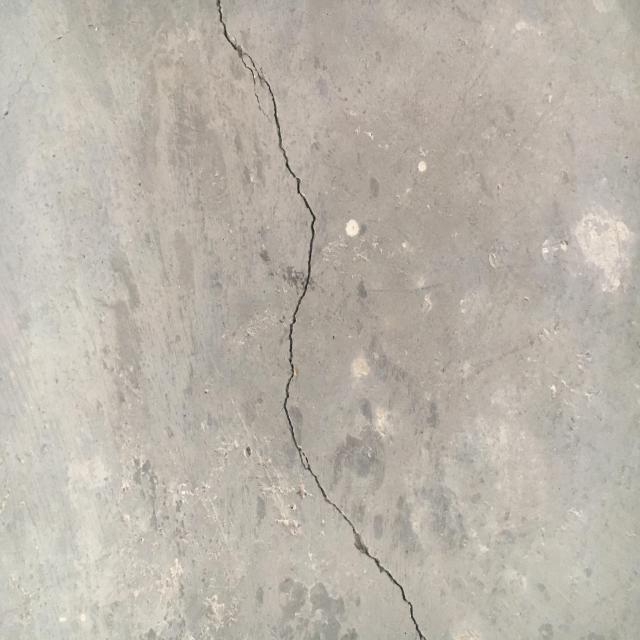Crack: (298, 444, 430, 639), (216, 7, 309, 204), (282, 206, 320, 445)
